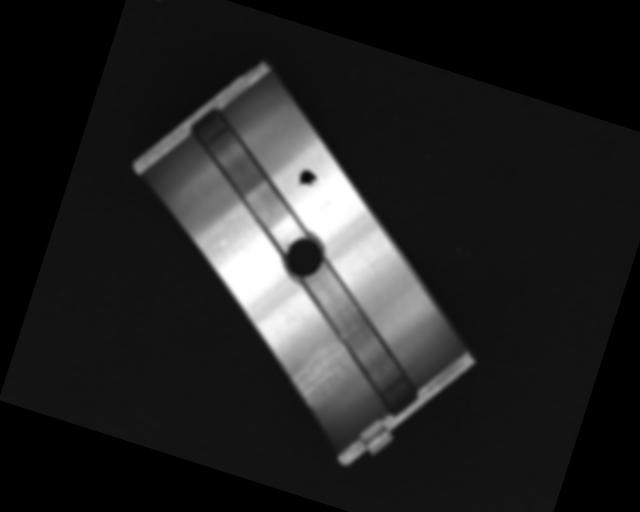blot: (294, 166, 323, 195)
gap: (273, 255, 444, 415), (166, 104, 330, 250)
hole: (279, 231, 328, 283)
nick: (212, 209, 257, 259), (358, 245, 388, 281)
scratch: (287, 332, 356, 412)
